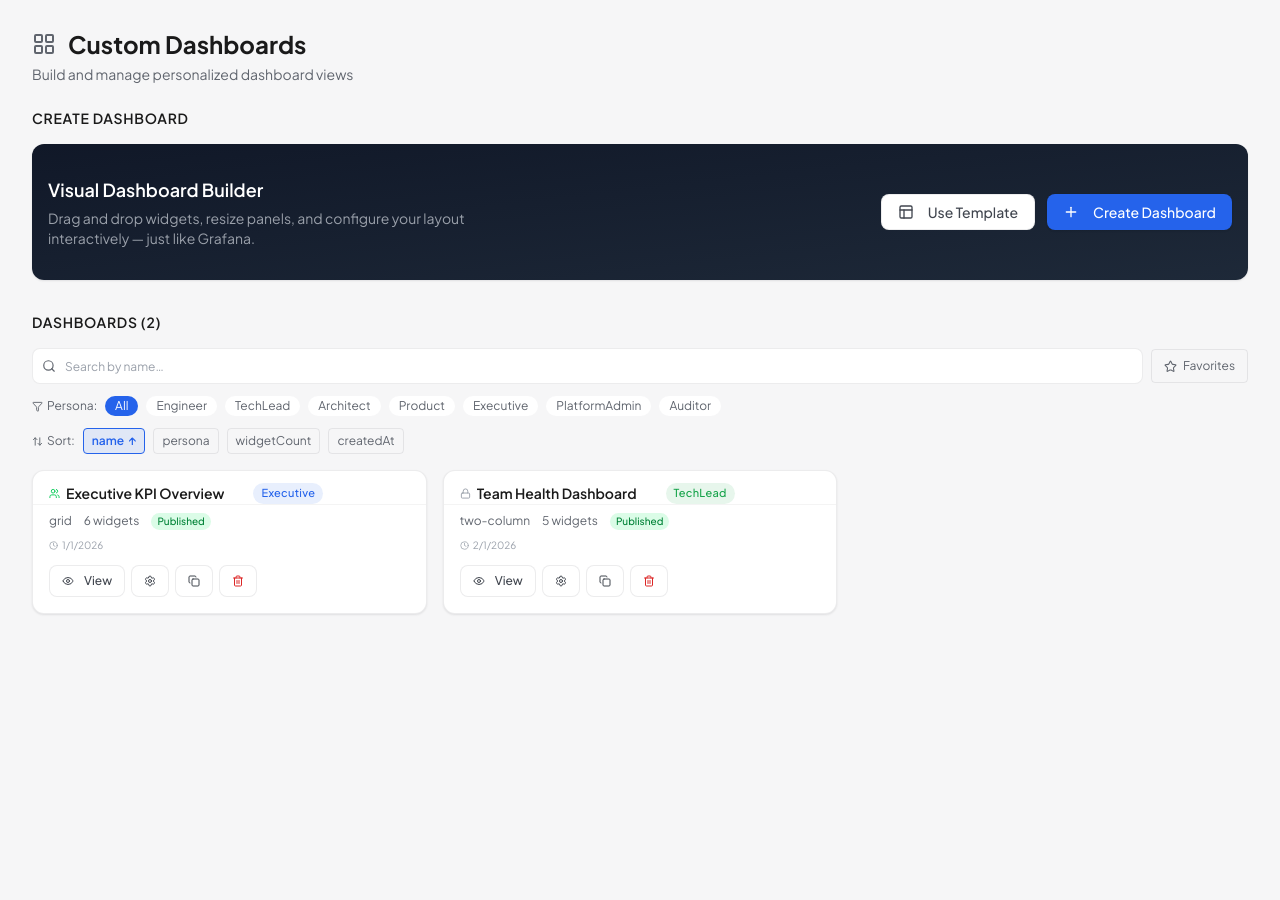
Test: CustomDashboardsPage › opens clone dialog when Clone button is clicked
Click the button named "Clone" below "1/1/2026": (194, 581) [175,565,213,597]
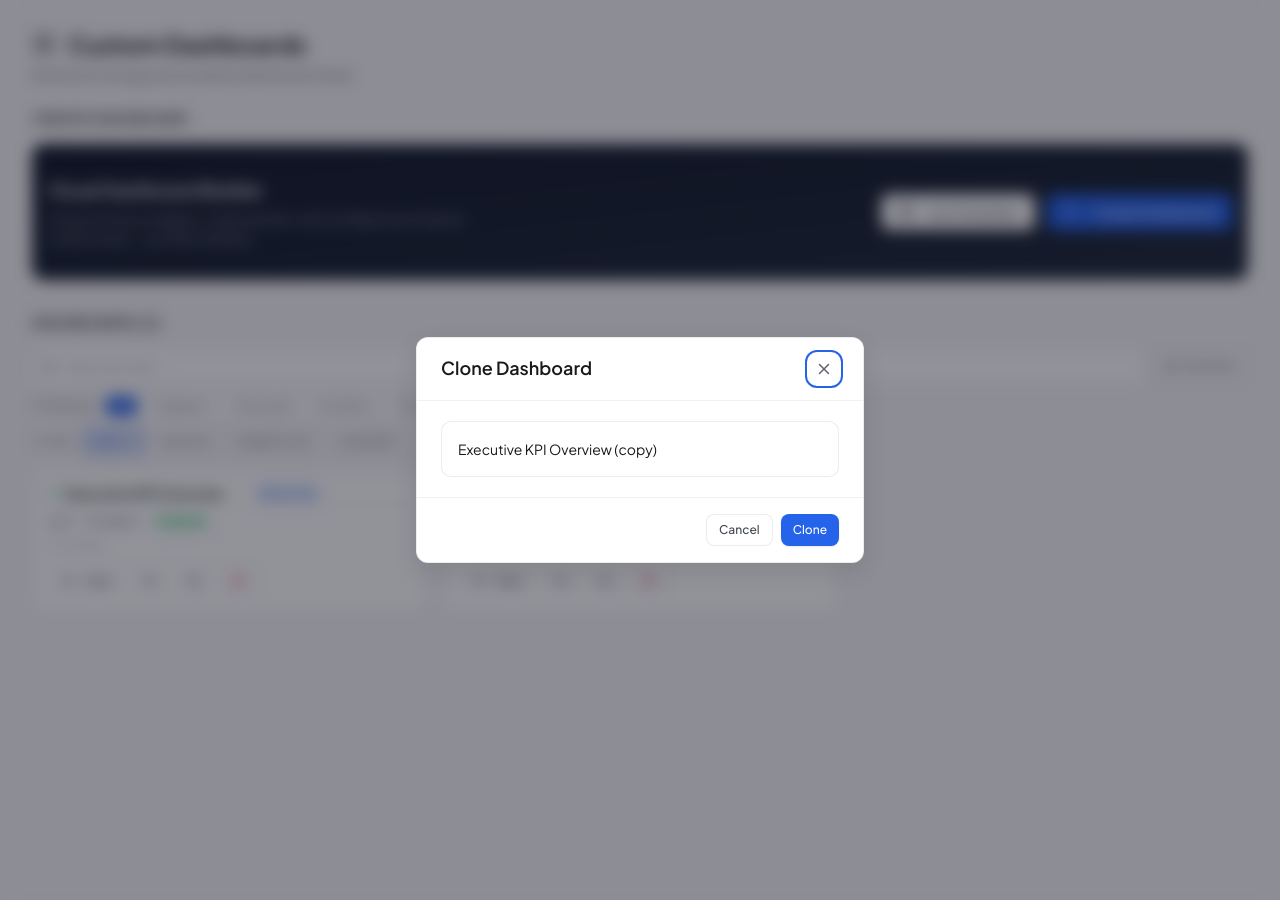
Expected: the text "Clone Dashboard" is shown, [441,354,592,382]
